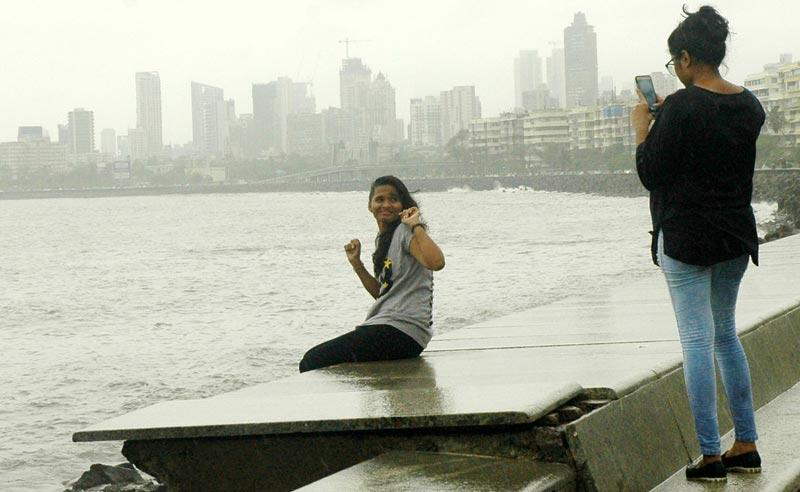backpack: (665, 15, 783, 377), (632, 69, 674, 192), (631, 108, 659, 195)
baseball glove: (400, 206, 419, 222)
bench: (153, 235, 800, 479), (234, 220, 638, 429), (245, 297, 679, 468), (108, 348, 633, 489), (366, 333, 800, 488), (299, 178, 554, 392), (624, 210, 800, 476), (311, 360, 645, 470), (559, 349, 799, 487), (331, 333, 643, 427), (309, 400, 613, 491), (673, 318, 800, 484), (539, 361, 698, 487), (732, 297, 796, 475)
boat: (198, 35, 800, 456), (38, 159, 718, 469), (119, 71, 616, 392), (100, 249, 555, 443), (70, 340, 614, 487), (206, 187, 614, 382), (190, 80, 232, 192), (193, 156, 290, 191), (194, 126, 243, 192), (134, 156, 223, 192), (100, 161, 193, 194), (124, 169, 214, 200), (173, 159, 252, 194), (224, 163, 307, 192), (203, 166, 273, 192), (161, 166, 221, 193), (217, 157, 263, 190), (133, 166, 191, 192), (159, 156, 199, 192), (173, 156, 213, 192), (190, 158, 234, 190), (188, 170, 245, 193), (131, 177, 191, 196), (155, 174, 191, 192), (109, 159, 130, 188)
car: (634, 28, 766, 178), (632, 71, 765, 144), (633, 73, 670, 161), (110, 160, 130, 185), (603, 104, 626, 117)
cell phone: (633, 73, 670, 161), (633, 71, 682, 128), (634, 73, 663, 121), (637, 77, 657, 110), (400, 206, 419, 222)
chair: (274, 342, 745, 489), (547, 334, 800, 489), (555, 360, 702, 490), (633, 73, 670, 161), (659, 60, 685, 97)
dining table: (274, 342, 745, 489)
frisbee: (400, 206, 419, 223)
hair drier: (635, 74, 664, 117)
handbag: (632, 72, 672, 185), (631, 108, 659, 195), (634, 74, 665, 142), (649, 223, 663, 267)
person: (166, 178, 782, 435), (321, 171, 616, 399), (598, 160, 800, 489), (649, 2, 785, 482), (299, 173, 447, 368), (332, 183, 498, 342), (638, 9, 767, 183), (681, 261, 776, 476), (633, 73, 670, 161)
remote: (400, 206, 419, 223)
skateboard: (108, 348, 633, 489), (633, 73, 670, 161), (635, 74, 662, 125)
sports ball: (400, 206, 419, 223)
surfboard: (73, 331, 623, 488)
tennis racket: (632, 71, 674, 176), (635, 74, 662, 125)
truck: (110, 160, 130, 188)
